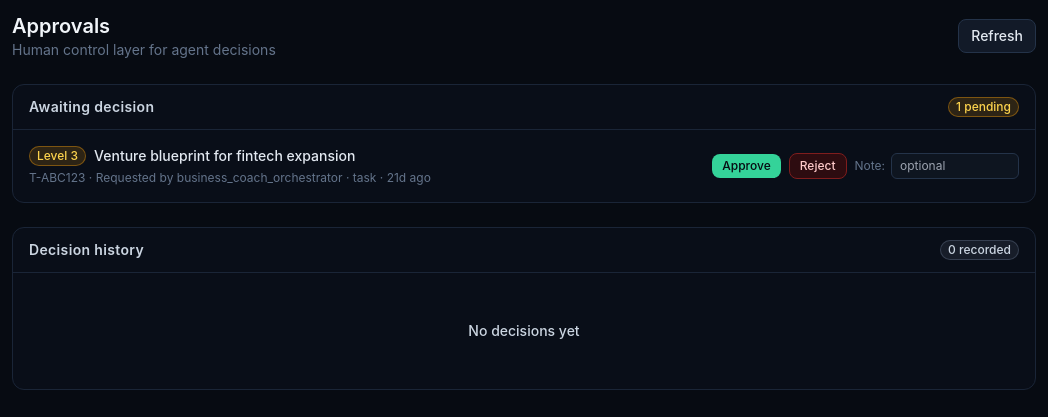
Test: ApprovalsPage › surfaces errors if a decision fails
The width and height of the screenshot is (1048, 417).
Expected: the text "Venture blueprint for fintech expansion" is shown, [94,146,355,166]
Click the button "Approve".
click(747, 166)  # box [712,154,781,178]
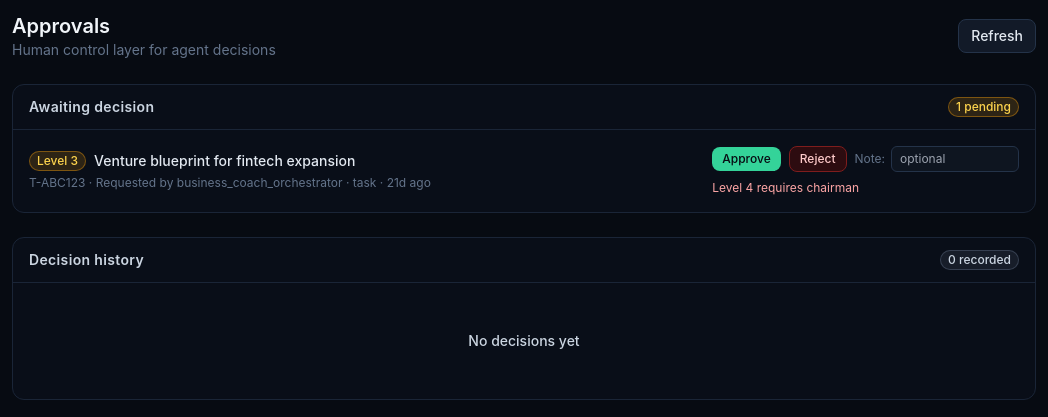
Now the message "Level 4 requires chairman" is shown, box [712,180,859,196]
Now the message reads "Level 4 requires chairman", box [712,180,859,195]
